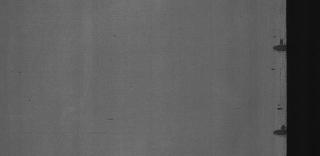oil spot: (268, 32, 286, 56), (272, 119, 288, 143)
